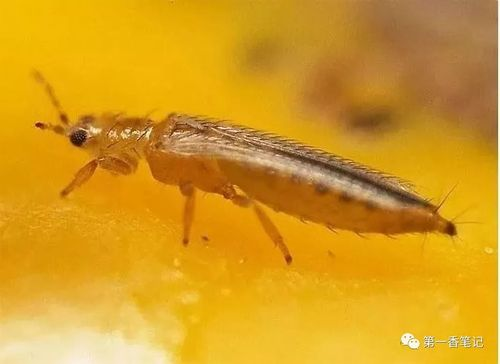Thripidae: (23, 66, 477, 266)
